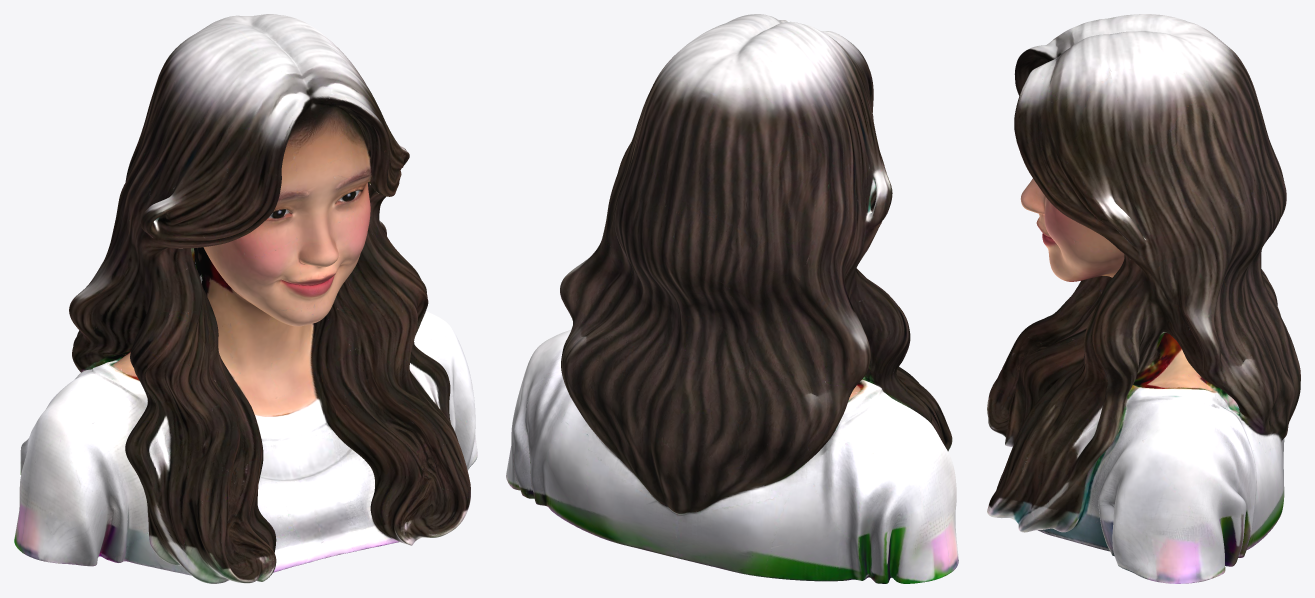
File: Yuki.glb
3 views of the same model, side by side, from view 1: azimuth 30°, elevation 25°; view 2: azimuth 150°, elevation 25°; view 3: azimuth 270°, elevation 25° (orthographic). The views are drawn at different scales.
Size of the model in its own units: 1.84 by 1.9 by 1.19.
1 material, 1 textured.
